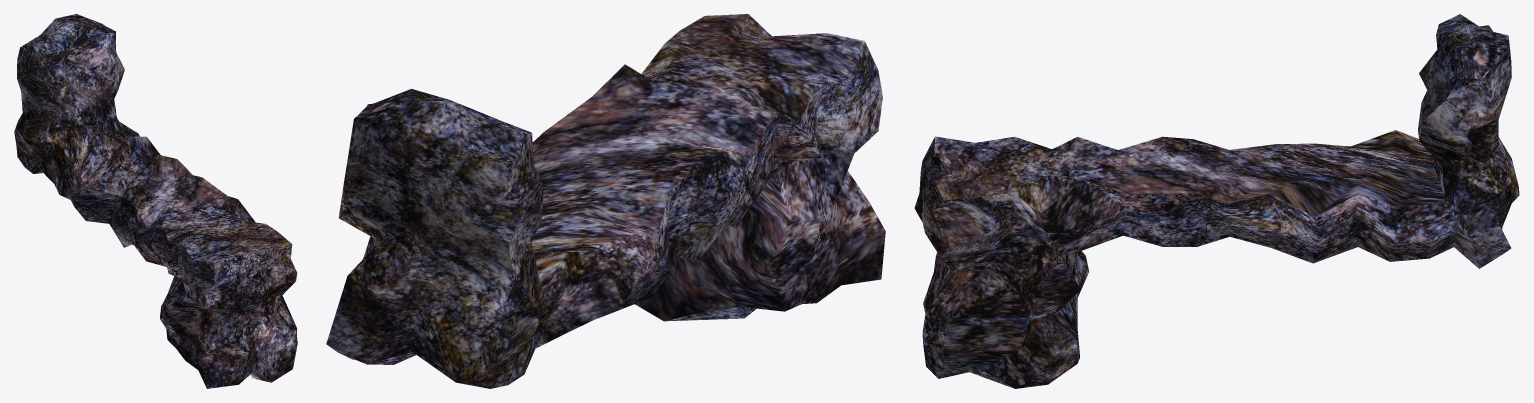
File: plataforma media.fbx
The picture shows the model from 3 angles, left to right: view 1: azimuth 30°, elevation 25°; view 2: azimuth 150°, elevation 25°; view 3: azimuth 270°, elevation 25°; orthographic projection. The views are drawn at different scales.
Parts seen in each view (by area): view 1: MidPlatform; view 2: MidPlatform; view 3: MidPlatform.
Boxes of the visible parts, x1,y1,x2,y2 form: MidPlatform: (14, 14, 297, 388); MidPlatform: (326, 14, 885, 388); MidPlatform: (914, 14, 1519, 388).
Size of the model in its own units: 665 by 1286 by 2093.
